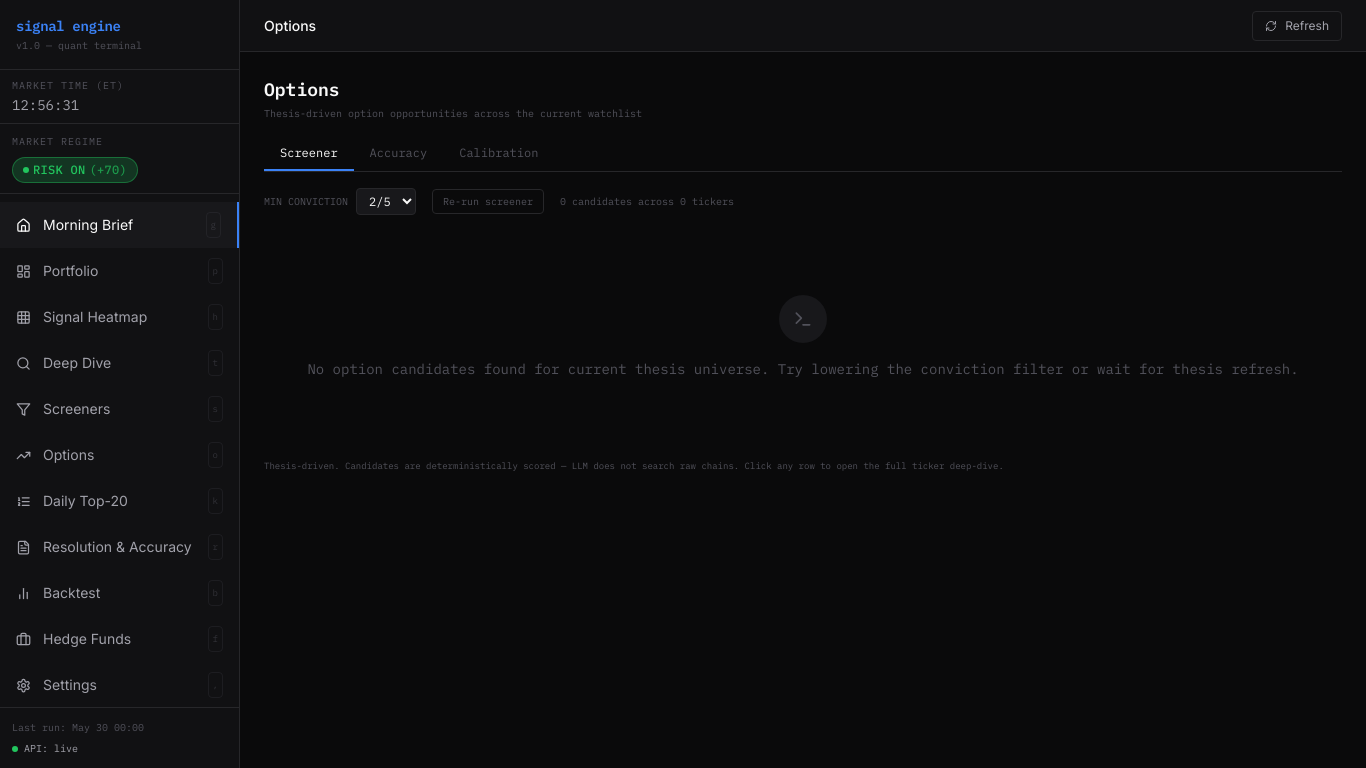
OptionsPage — Accuracy tab › shows empty state when no data
Click the tab "Accuracy". click: (398,154)
box: [354,137,443,171]
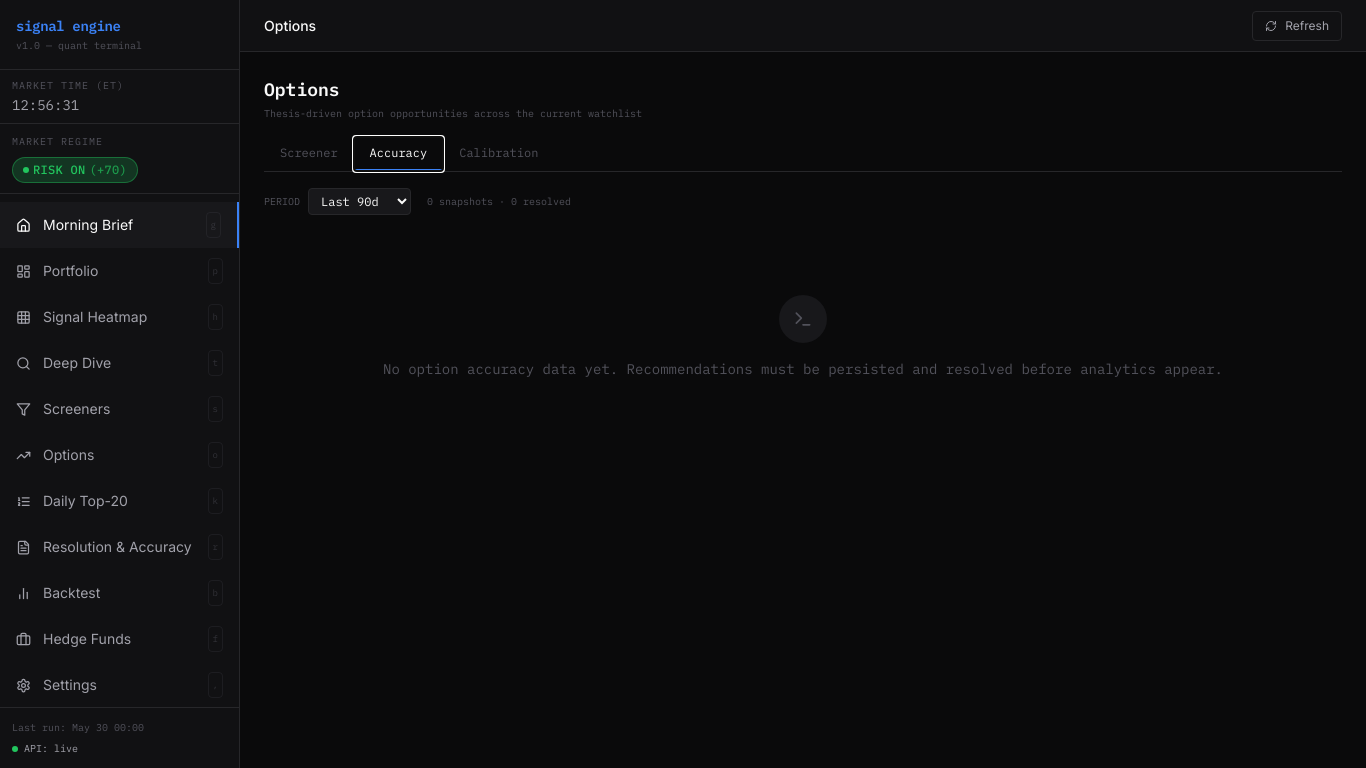
Check: the text "No option accuracy data" is shown, box [383,360,1223,378]
